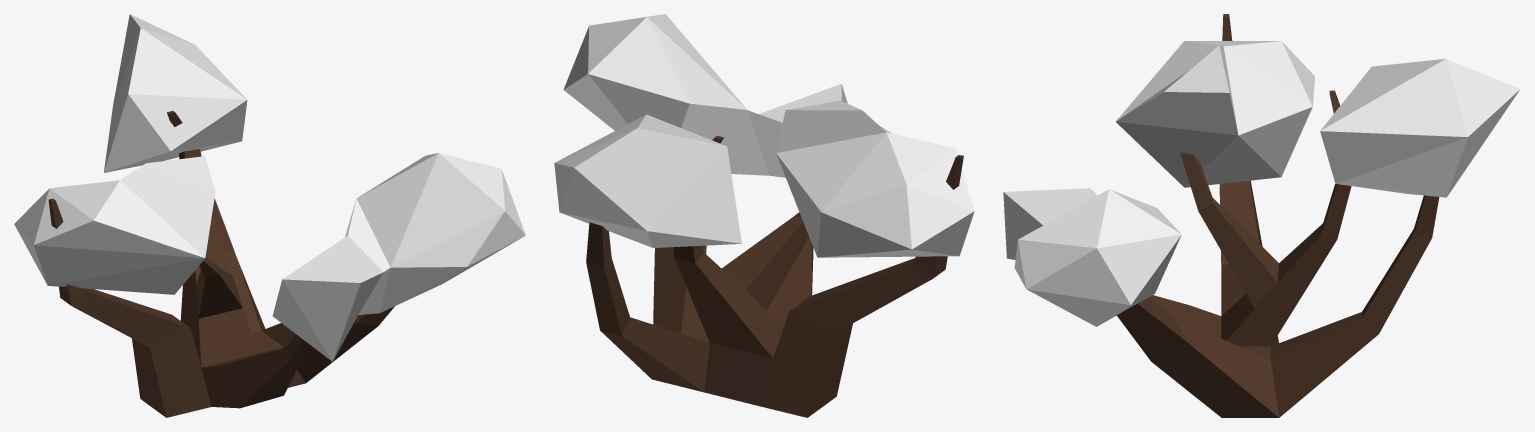
The model's file is BushWinter3.fbx.
The picture shows the model from 3 angles, left to right: view 1: azimuth 30°, elevation 25°; view 2: azimuth 150°, elevation 25°; view 3: azimuth 270°, elevation 25°; orthographic projection. The views are drawn at different scales.
Visible parts, largest first — view 1: BushWinter3; view 2: BushWinter3; view 3: BushWinter3.
Part boxes in pixels (left/top/right/bottom): BushWinter3: left=14, top=14, right=525, bottom=417; BushWinter3: left=554, top=14, right=974, bottom=417; BushWinter3: left=1003, top=14, right=1520, bottom=417.
Bounding box in the file's own units: 0.9191 × 0.6291 × 0.9046.
